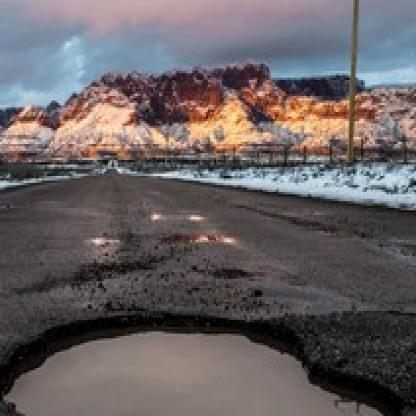pothole: (0, 313, 404, 416)
